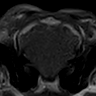Brain: (21, 25, 77, 78)
